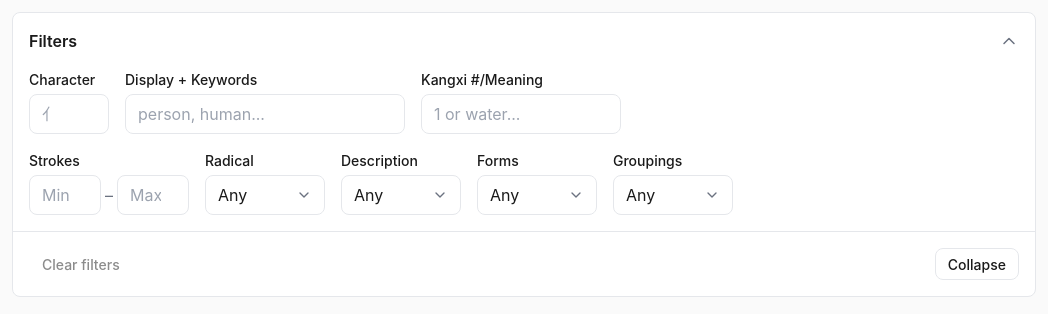
Test: ComponentListSectionFilters › has accessible toggle button
Click to toggle
Click the button "Filters": (53, 41) [13,13,1035,69]
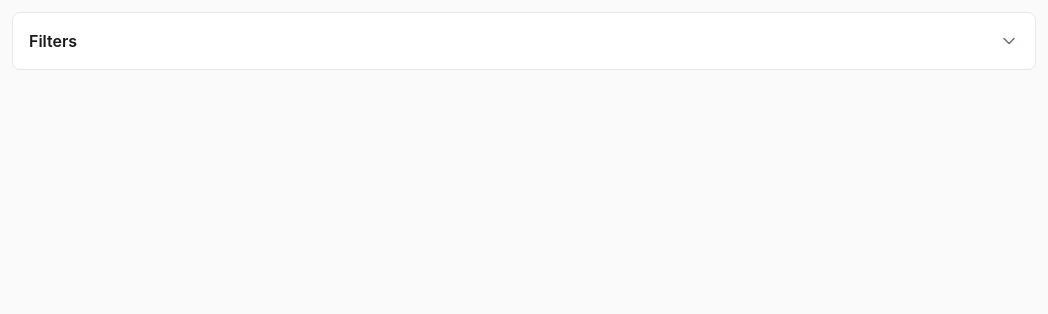
Check: the button has attribute aria-expanded, box [13,13,1035,69]
